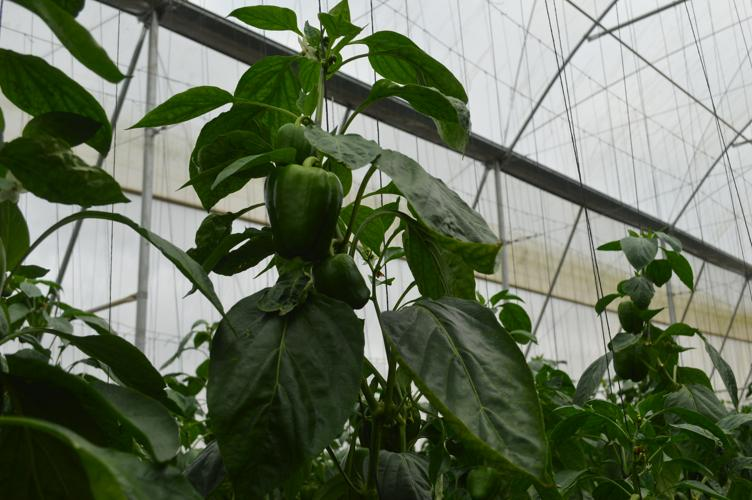BellPepper: (263, 158, 341, 263), (317, 247, 368, 305), (262, 117, 316, 164)
